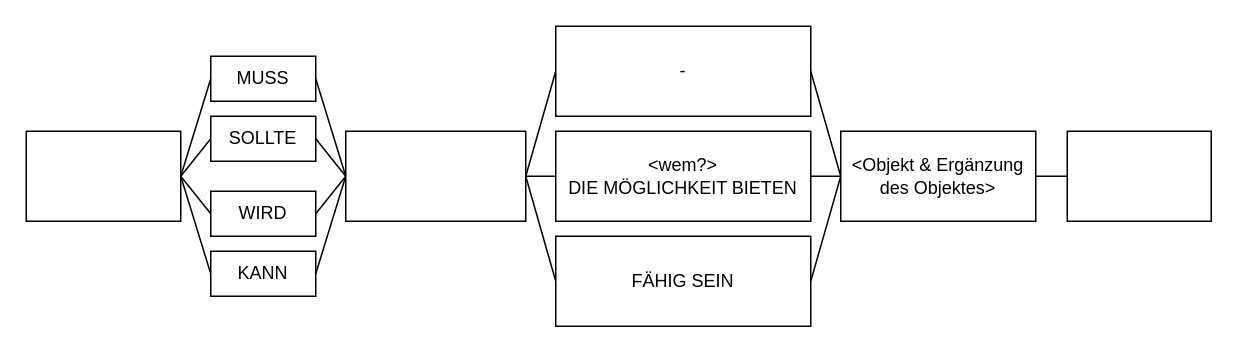
The diagram is 1239 pixels wide and 353 high, and some of its shapes have lost their labels. Here are the shapes that lost their labels. From the top down, the box of each, then its label:
(25, 130, 181, 221): Wann? Unter welcher Bedinung?
(344, 130, 526, 221): DAS SYSTEM
(1066, 130, 1211, 221): <Prozesswort>
